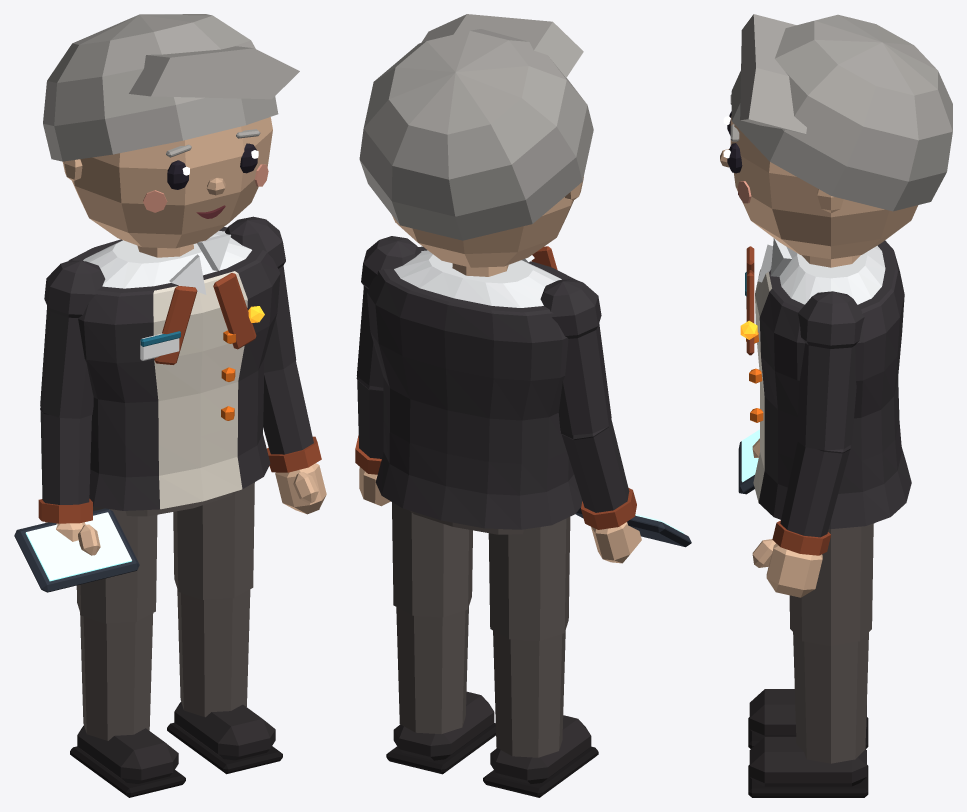
The model's file is man_emb.glb.
The picture shows the model from 3 angles, left to right: view 1: azimuth 30°, elevation 25°; view 2: azimuth 150°, elevation 25°; view 3: azimuth 270°, elevation 25°; orthographic projection.
Parts seen in each view (by area): view 1: jacke, haare, bein_l, kopf, bein_r, arm_r, arm_l, gegenstand_terminal, schuh_r, schuh_l, torso, revers (+6 smaller); view 2: jacke, haare, bein_r, bein_l, arm_r, arm_l, torso, kopf, schuh_r, schuh_l, hand_r, gegenstand_terminal (+1 smaller); view 3: haare, jacke, bein_l, arm_l, kopf, schuh_l, torso, hand_l, schuh_r, gegenstand_terminal, gesicht, kragen (+2 smaller).
Boxes of the visible parts, <box> form: jacke: <box>68,227,280,510</box>; haare: <box>43,14,299,161</box>; bein_l: <box>173,482,254,717</box>; kopf: <box>62,117,272,248</box>; bein_r: <box>76,507,157,740</box>; arm_r: <box>38,260,105,523</box>; arm_l: <box>225,216,321,472</box>; gegenstand_terminal: <box>14,508,139,592</box>; schuh_r: <box>70,725,185,797</box>; schuh_l: <box>167,702,282,774</box>; torso: <box>83,231,251,288</box>; revers: <box>154,273,256,364</box>; jacke: <box>367,246,582,529</box>; haare: <box>359,14,593,240</box>; bein_r: <box>488,517,570,757</box>; bein_l: <box>392,502,472,734</box>; arm_r: <box>540,279,636,529</box>; arm_l: <box>355,236,421,474</box>; torso: <box>394,250,561,307</box>; kopf: <box>392,177,583,267</box>; schuh_r: <box>483,715,598,797</box>; schuh_l: <box>386,691,495,774</box>; hand_r: <box>591,522,641,563</box>; gegenstand_terminal: <box>575,507,691,547</box>; haare: <box>731,14,952,211</box>; jacke: <box>753,240,911,528</box>; bein_l: <box>789,524,873,763</box>; arm_l: <box>772,291,864,555</box>; kopf: <box>730,116,918,259</box>; schuh_l: <box>748,736,868,797</box>; torso: <box>779,245,885,304</box>; hand_l: <box>752,539,822,597</box>; schuh_r: <box>748,689,868,748</box>; gegenstand_terminal: <box>738,429,759,494</box>; gesicht: <box>720,94,751,203</box>; kragen: <box>758,238,791,282</box>.
Size of the model in its own units: 0.0122 by 0.0276 by 0.00798.
